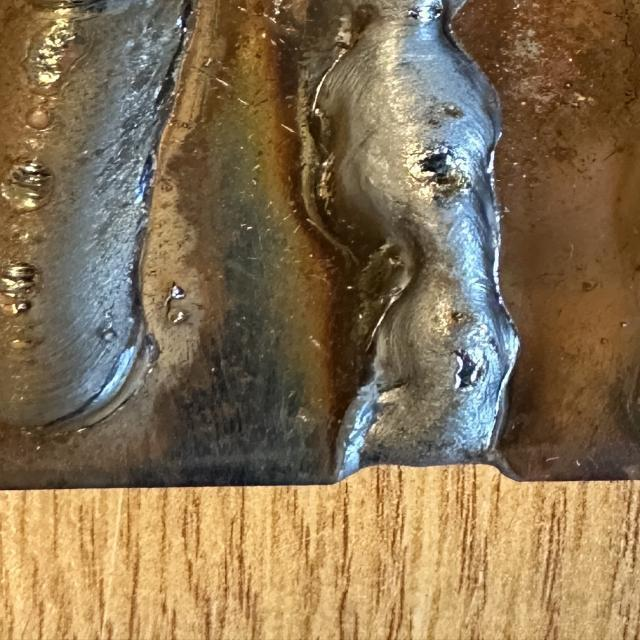Porosity: (418, 156, 454, 188)
